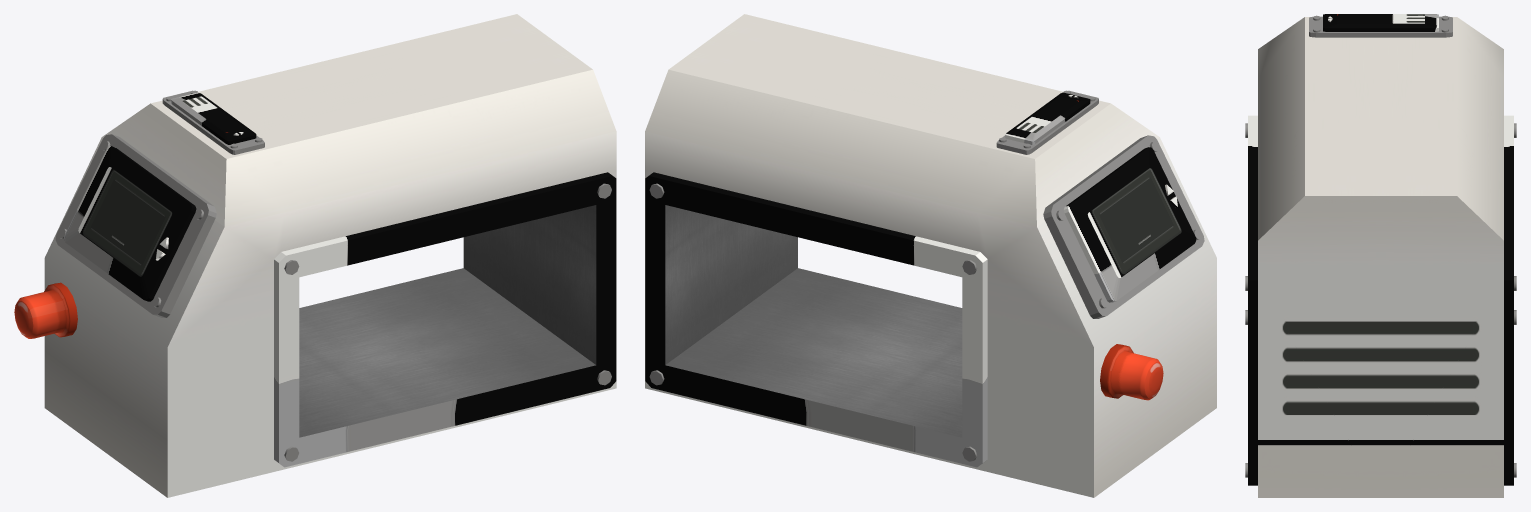
File: Conveyor_belt_Machine.FBX
3 views of the same model, side by side, from view 1: azimuth 30°, elevation 25°; view 2: azimuth 150°, elevation 25°; view 3: azimuth 270°, elevation 25° (orthographic).
Visible parts, largest first — view 1: Plane007; view 2: Plane007; view 3: Plane007.
Part boxes in pixels (x1,y1,x2,y2): Plane007: [14, 14, 616, 497]; Plane007: [645, 14, 1216, 497]; Plane007: [1245, 14, 1516, 497].
Bounding box in the file's own units: 75.1 × 35.78 × 45.49.
